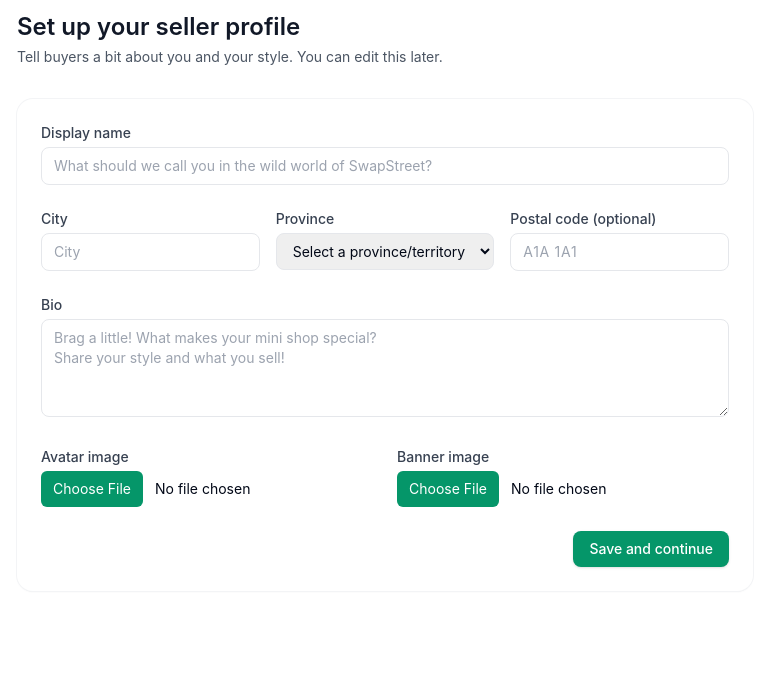
Test: SellerOnboardingPage › shows error if city is missing
Type "Seller Name" into the field with placeholder "What should we call you in the wild world of SwapStreet?" at (385, 166), box [41,147,729,185]
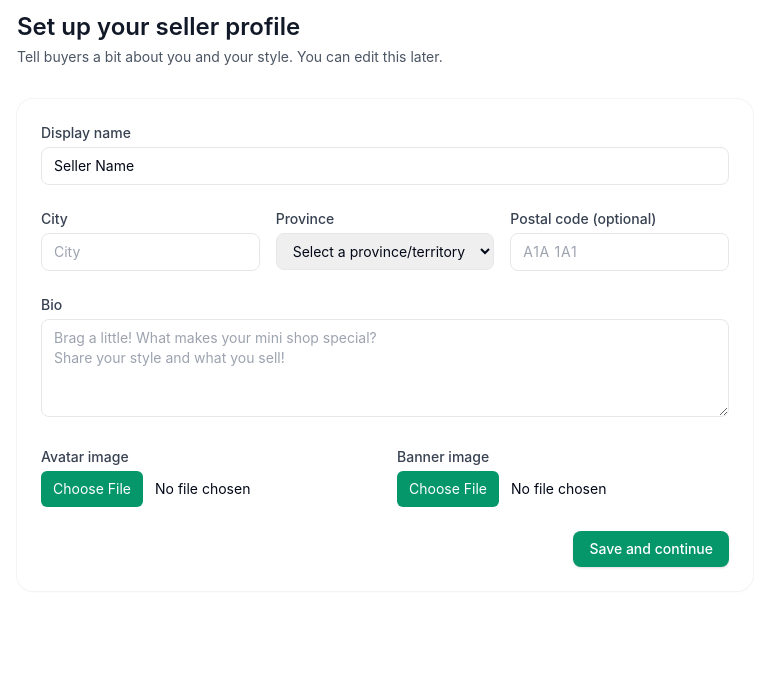
Submit the form named "save and continue"
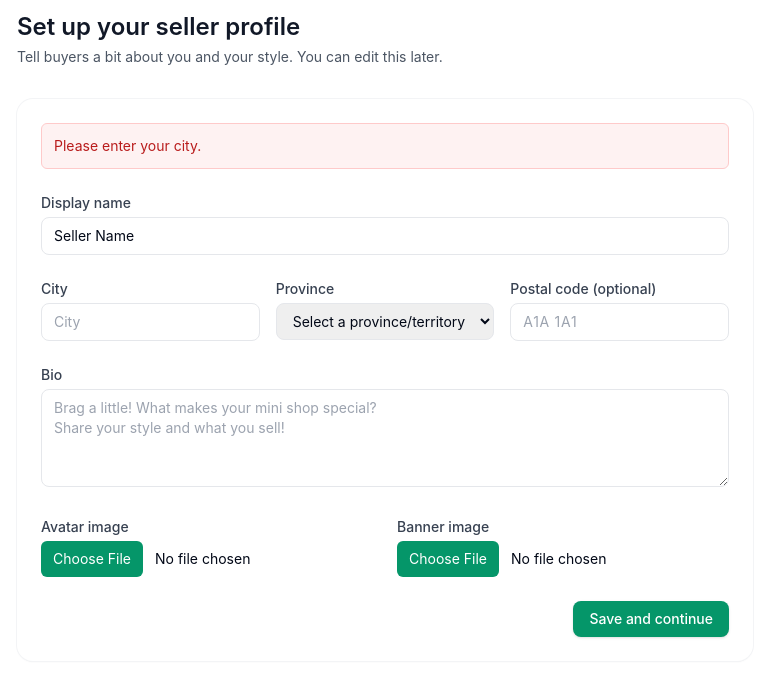
Result: the text "Please enter your city." is shown at [41,123,729,169]
